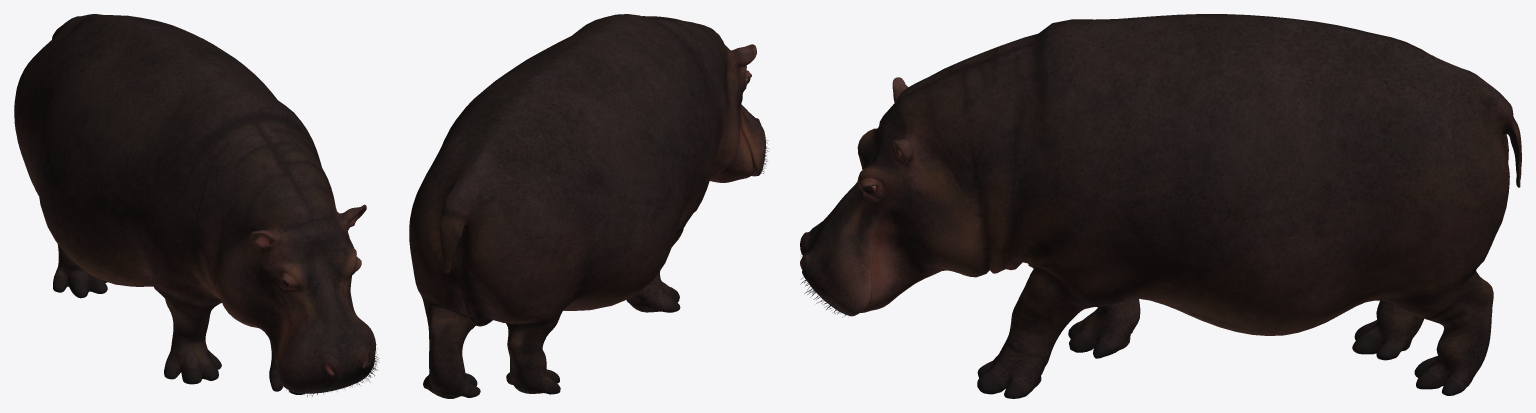
The model's file is hipo.glb.
3 renders of one model, left to right at view 1: azimuth 30°, elevation 25°; view 2: azimuth 150°, elevation 25°; view 3: azimuth 270°, elevation 25°, orthographic. The views are drawn at different scales.
Parts seen in each view (by area): view 1: hippo.1_1; view 2: hippo.1_1; view 3: hippo.1_1.
Boxes of the visible parts, x1=… form: hippo.1_1: x1=14, y1=14, x2=379, y2=396; hippo.1_1: x1=409, y1=14, x2=768, y2=398; hippo.1_1: x1=800, y1=14, x2=1521, y2=398.
Size of the model in its own units: 0.1046 by 0.1301 by 0.2444.
Materials: 1 (1 with a texture image).
